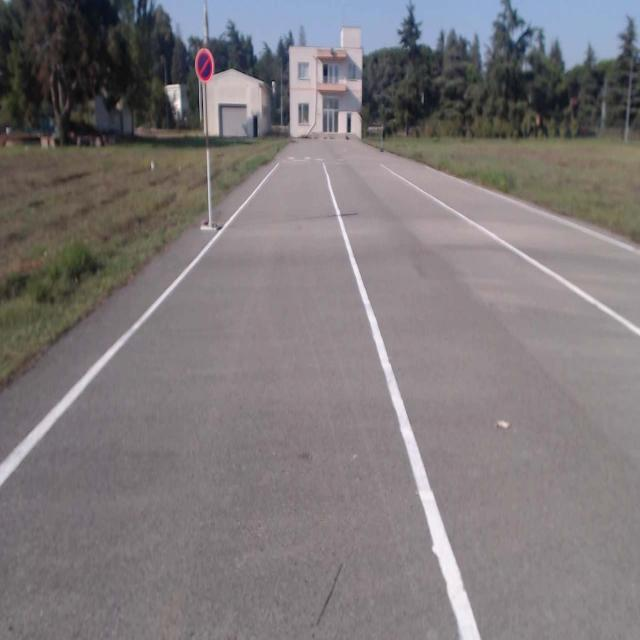parkyasak: (195, 48, 213, 82)
